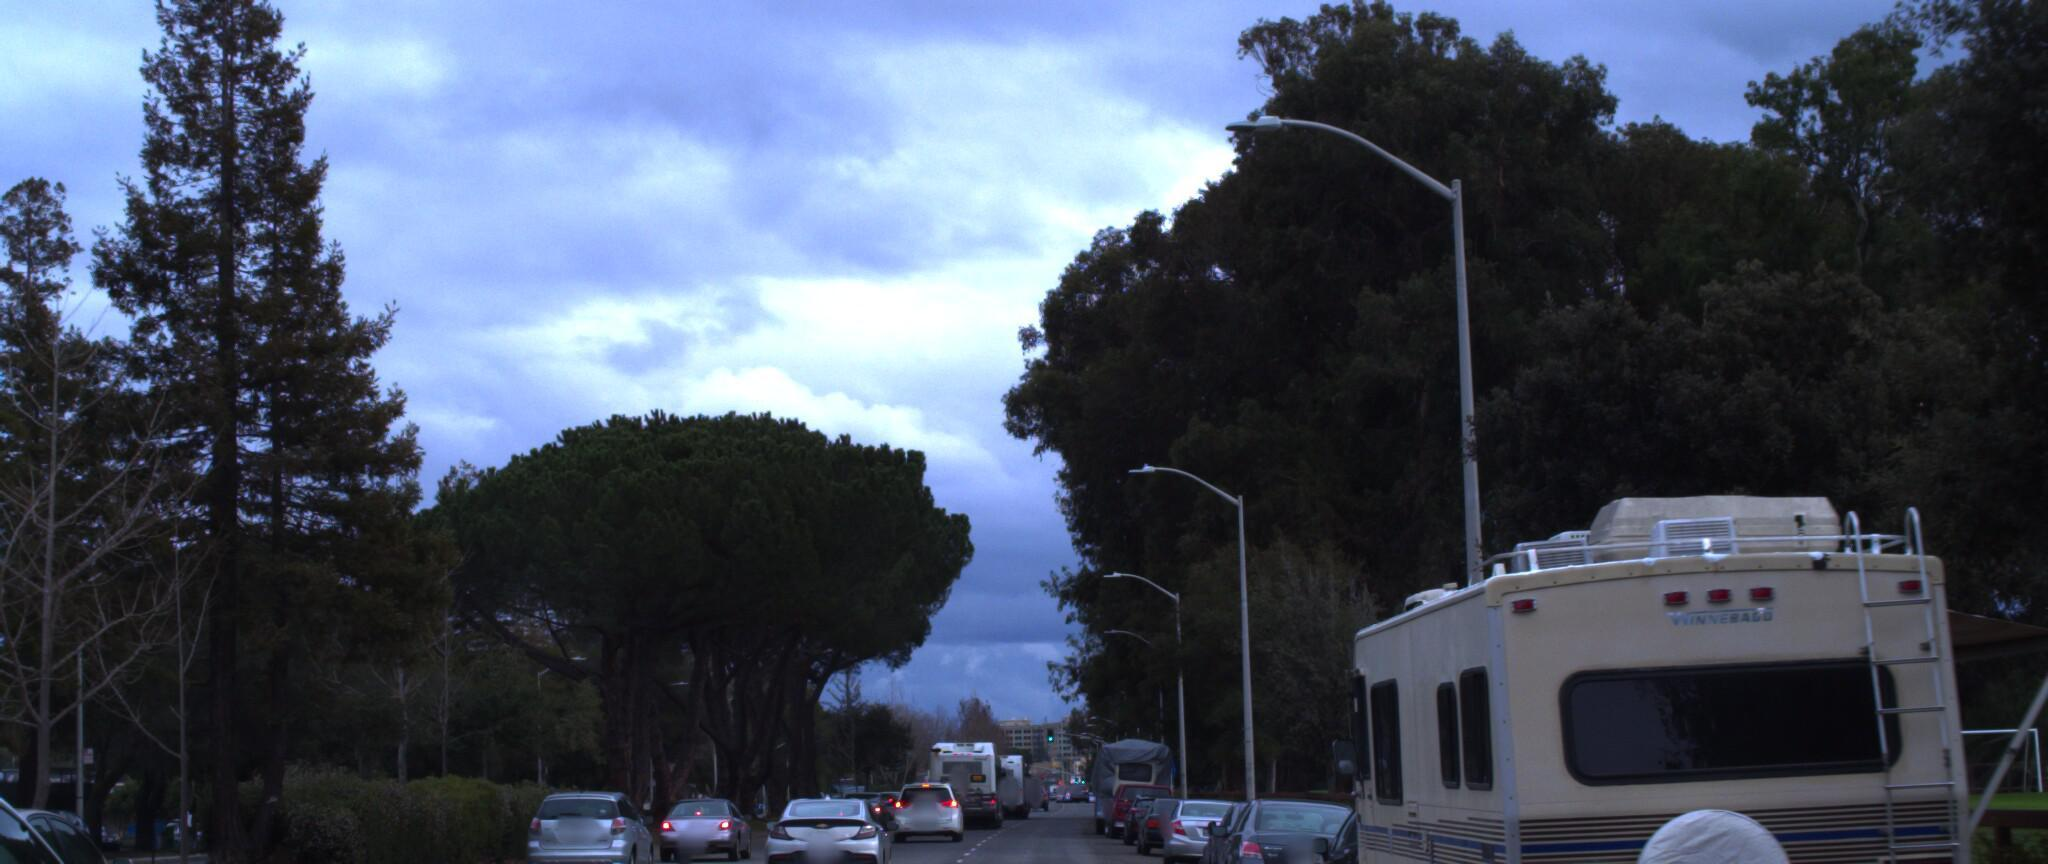car: (0, 609, 320, 864), (1289, 766, 1590, 864), (1203, 777, 1398, 864), (0, 783, 199, 864), (507, 774, 658, 864), (748, 782, 892, 864), (640, 774, 747, 857), (1159, 786, 1256, 864)
other_vehicle: (1313, 410, 2048, 864)
